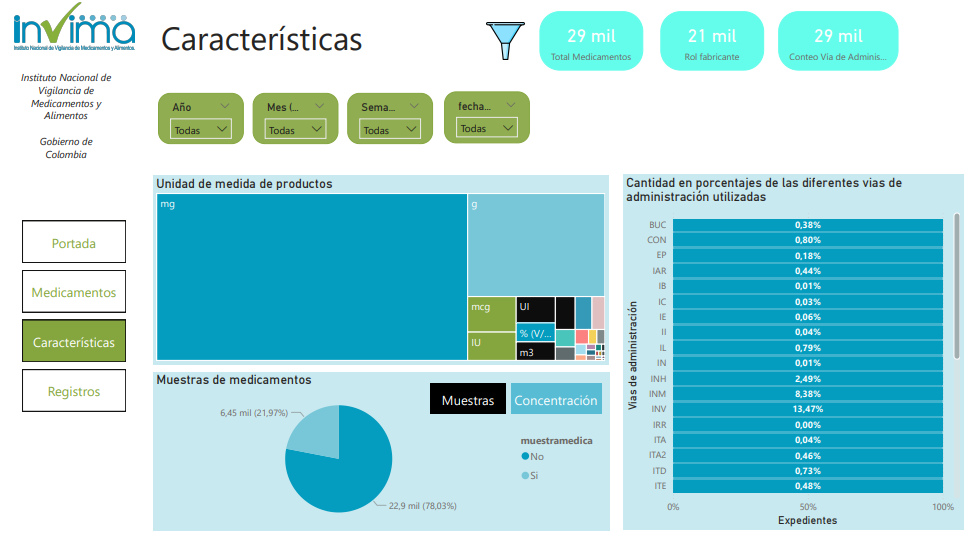

This screenshot's page, from the dashboard's own definition file:
{"tool":"powerbi","page":{"name":"Características","canvas":[1280,720],"ordinal":2},"visuals":[{"type":"shape","box":[0,0,169.8,720],"z":0},{"type":"pieChart","title":"Muestras de medicamentos","fields":{"Category":["MEDICAMENTOS.muestramedica"],"Y":["CountNonNull(MEDICAMENTOS.ID PRODUCTO)"]},"box":[188.8,508.8,607.5,211.2],"z":0,"group":"g1"},{"type":"shape","box":[158.3,117.9,1121.4,110.7],"z":1000},{"type":"actionButton","box":[559.1,524,99.5,39.5],"z":1000,"group":"g1"},{"type":"image","box":[0,0,170.2,95.2],"z":2000},{"type":"actionButton","box":[665.9,524,120,39.5],"z":2000,"group":"g1"},{"type":"slicer","fields":{"Values":["Tabla calendario.Año"]},"box":[196,136,114,68],"z":3000},{"type":"slicer","fields":{"Values":["Tabla calendario.Mes (Letra)"]},"box":[322,136,114,68],"z":4000},{"type":"slicer","fields":{"Values":["Tabla calendario.Semana"]},"box":[448,136,114,68],"z":5000},{"type":"card","fields":{"Values":["#Medidas.Cantidad Medicamentos"]},"box":[704,27,138,79],"z":6000},{"type":"card","fields":{"Values":["#Medidas.Rol"]},"box":[865,27,138,79],"z":7000},{"type":"card","fields":{"Values":["#Medidas.Via administracion oral"]},"box":[1022,27,160,79],"z":8000},{"type":"textbox","box":[195.2,27.4,481,85.7],"z":9000},{"type":"textbox","box":[4.8,101.2,136.9,145.2],"z":10000},{"type":"pageNavigator","box":[15,306.7,138.3,256.7],"z":11000},{"type":"slicer","fields":{"Values":["MEDICAMENTOS.fechaexpedicion"]},"box":[576.7,134.4,114.4,68.9],"z":12000},{"type":"image","box":[626.7,36.7,64.4,60],"z":13000},{"type":"treemap","title":"Unidad de medida de productos","fields":{"Values":["CountNonNull(MEDICAMENTOS.ID PRODUCTO)"],"Group":["MEDICAMENTOS.unidadmedida"]},"box":[188.8,246.2,607.5,251.2],"z":14000},{"type":"hundredPercentStackedBarChart","title":"Cantidad en porcentajes de las diferentes vias de administración utilizadas ","fields":{"Category":["MEDICAMENTOS.ID VIAADMINISTRACION"],"Y":["Sum(MEDICAMENTOS.Expediente)"]},"box":[815,245,453.8,473.8],"z":15000},{"type":"group","id":"g1","title":"Muestras de medicamentos","box":[188.8,508.8,607.5,211.2],"z":17000}]}

Visuals, with their boxes in screenshot pixels (x1, y1, x2, y2), scaled from the page's 1280x720 canvas onto the 970x537 screenshot:
shape: box=[0, 0, 129, 536]
"Muestras de medicamentos" pieChart: box=[143, 379, 603, 536]
shape: box=[120, 88, 969, 170]
actionButton: box=[424, 391, 499, 420]
image: box=[0, 0, 129, 71]
actionButton: box=[505, 391, 596, 420]
slicer - Tabla calendario.Año: box=[149, 101, 235, 152]
slicer - Tabla calendario.Mes (Letra): box=[244, 101, 330, 152]
slicer - Tabla calendario.Semana: box=[340, 101, 426, 152]
card - #Medidas.Cantidad Medicamentos: box=[534, 20, 638, 79]
card - #Medidas.Rol: box=[656, 20, 760, 79]
card - #Medidas.Via administracion oral: box=[774, 20, 896, 79]
textbox: box=[148, 20, 512, 84]
textbox: box=[4, 75, 107, 184]
pageNavigator: box=[11, 229, 116, 420]
slicer - MEDICAMENTOS.fechaexpedicion: box=[437, 100, 524, 152]
image: box=[475, 27, 524, 72]
"Unidad de medida de productos" treemap: box=[143, 184, 603, 371]
"Cantidad en porcentajes de las diferentes vias de administración utilizadas " hundredPercentStackedBarChart: box=[618, 183, 962, 536]
"Muestras de medicamentos" group: box=[143, 379, 603, 536]
